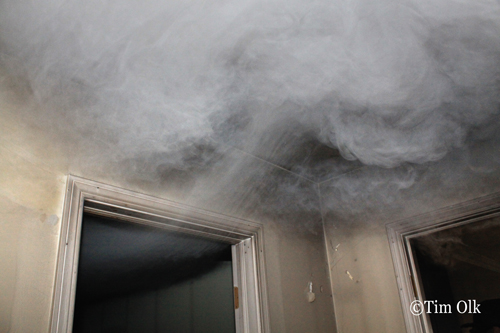smoke: (1, 1, 500, 157)
